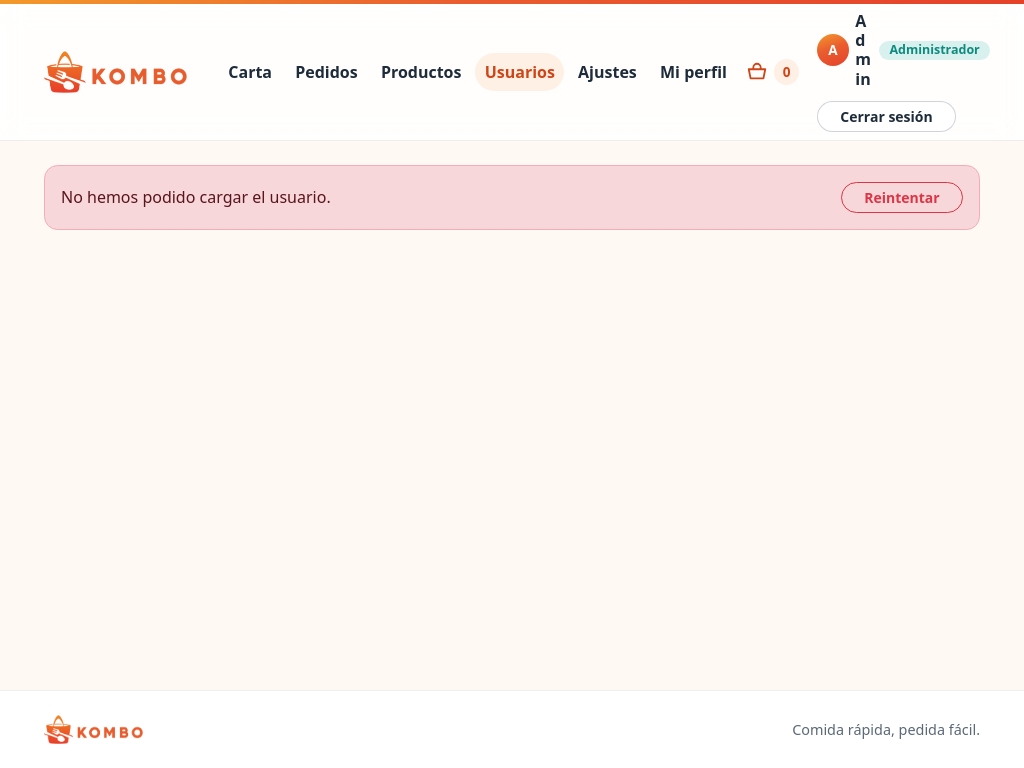
it: UserEditPage › retries after an error
The image size is (1024, 768).
Click the button "Reintentar".
click(902, 197)  # box x1=841 y1=182 x2=963 y2=213
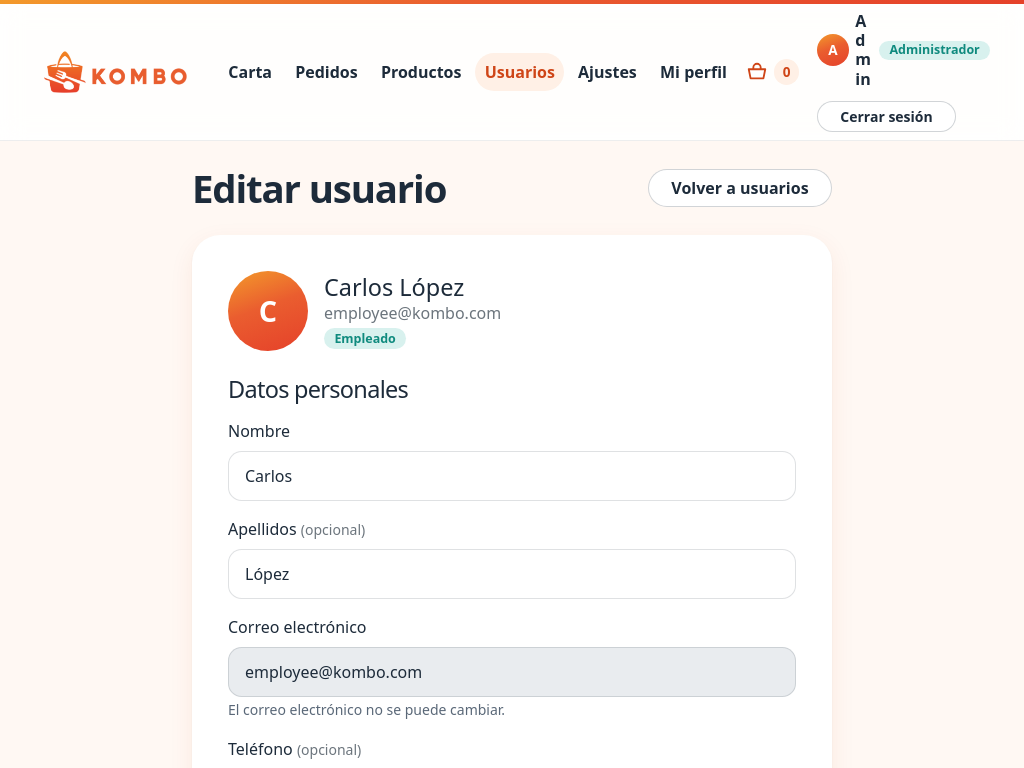
Check: the text "employee@kombo.com" is shown, box x1=324 y1=301 x2=501 y2=325
